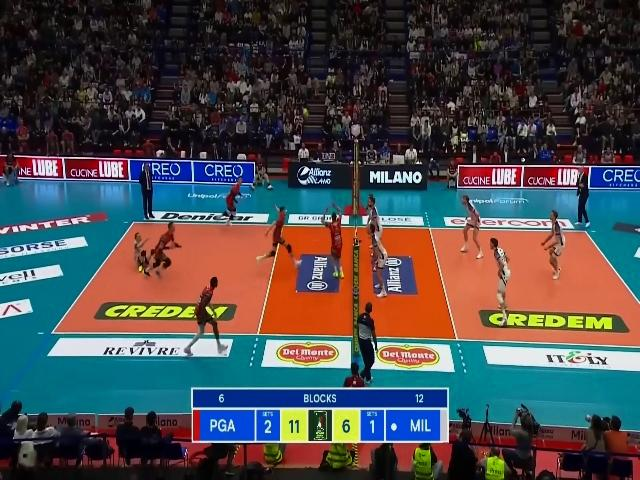volleyball court: (49, 220, 638, 345)
